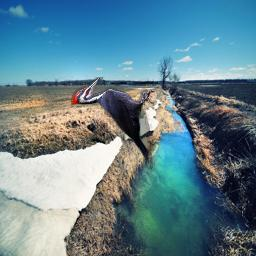Woodpecker: (71, 77, 155, 169)
